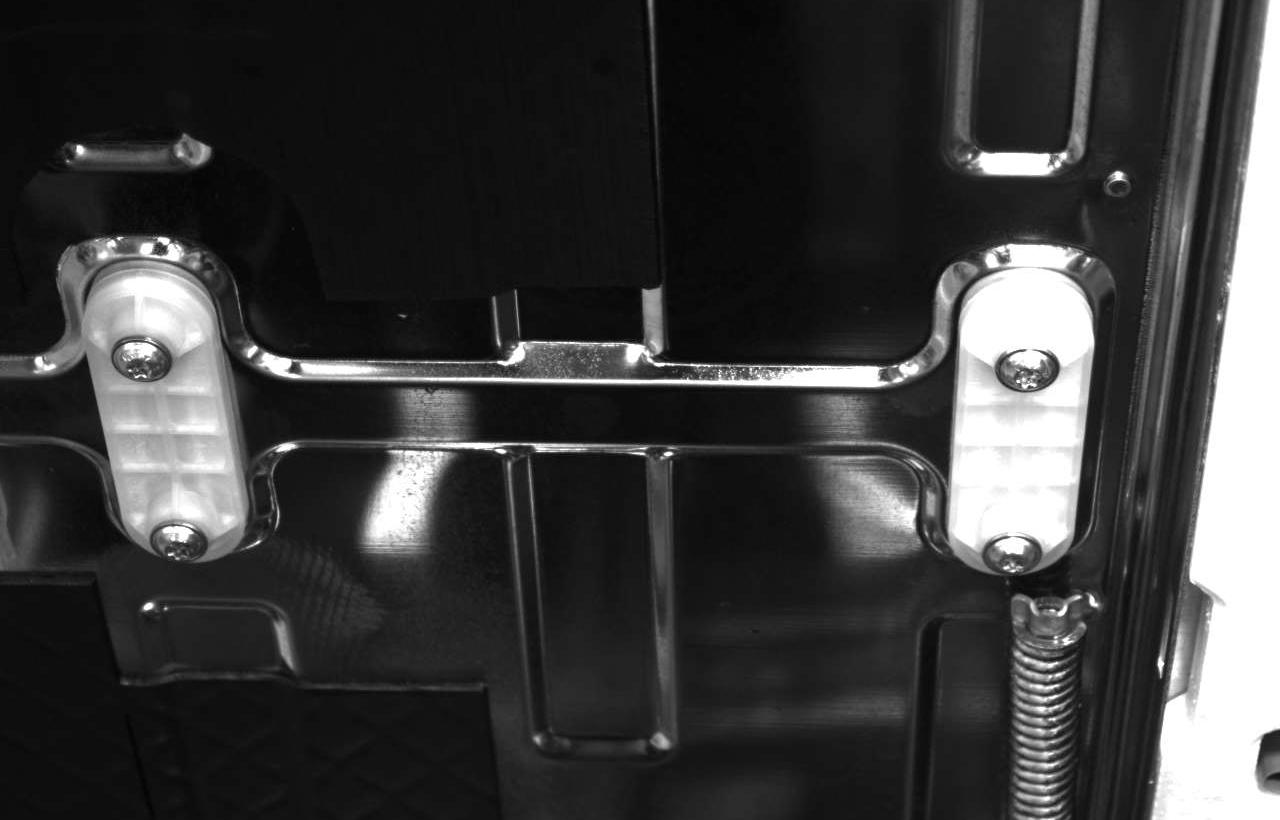vida-ok: (109, 327, 180, 394), (994, 339, 1061, 407), (146, 512, 211, 571), (980, 527, 1046, 585)
